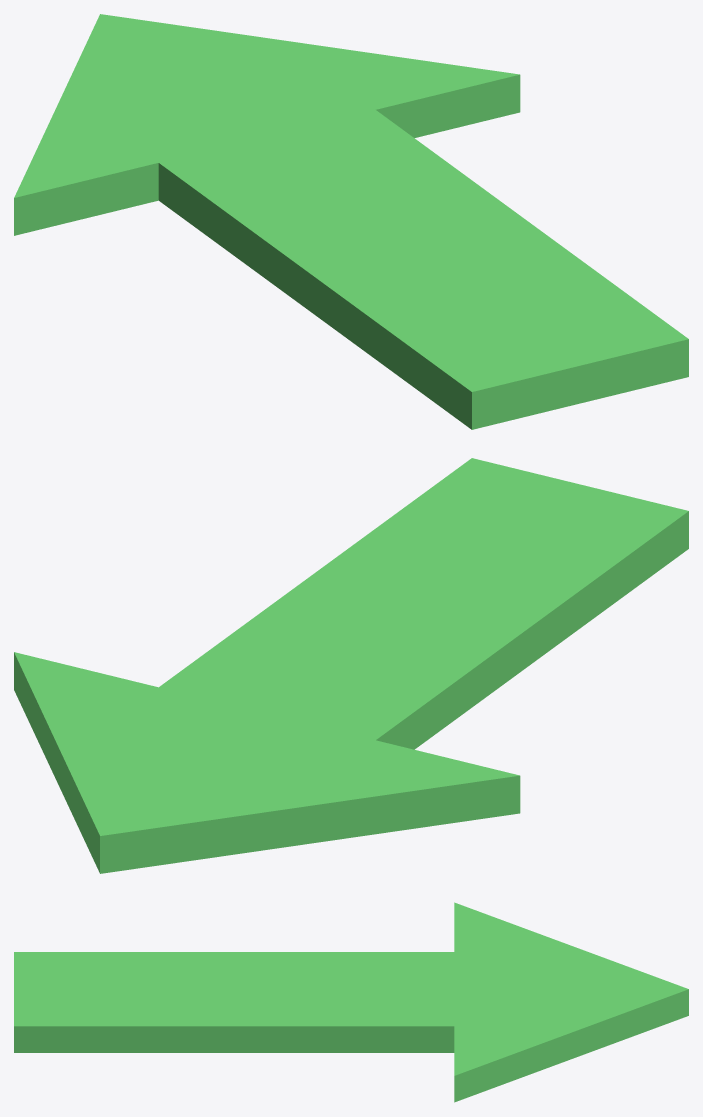
File: arrow.glb
The picture shows the model from 3 angles, top to bottom: view 1: azimuth 30°, elevation 25°; view 2: azimuth 150°, elevation 25°; view 3: azimuth 270°, elevation 25°; orthographic projection. The views are drawn at different scales.
Parts seen in each view (by area): view 1: Body1; view 2: Body1; view 3: Body1.
Part boxes in pixels (box(x1,y1,x2,y2)): Body1: box(14, 14, 688, 429); Body1: box(14, 458, 688, 873); Body1: box(14, 902, 688, 1102).
Size of the model in its own units: 7 by 0.5 by 11.5.
